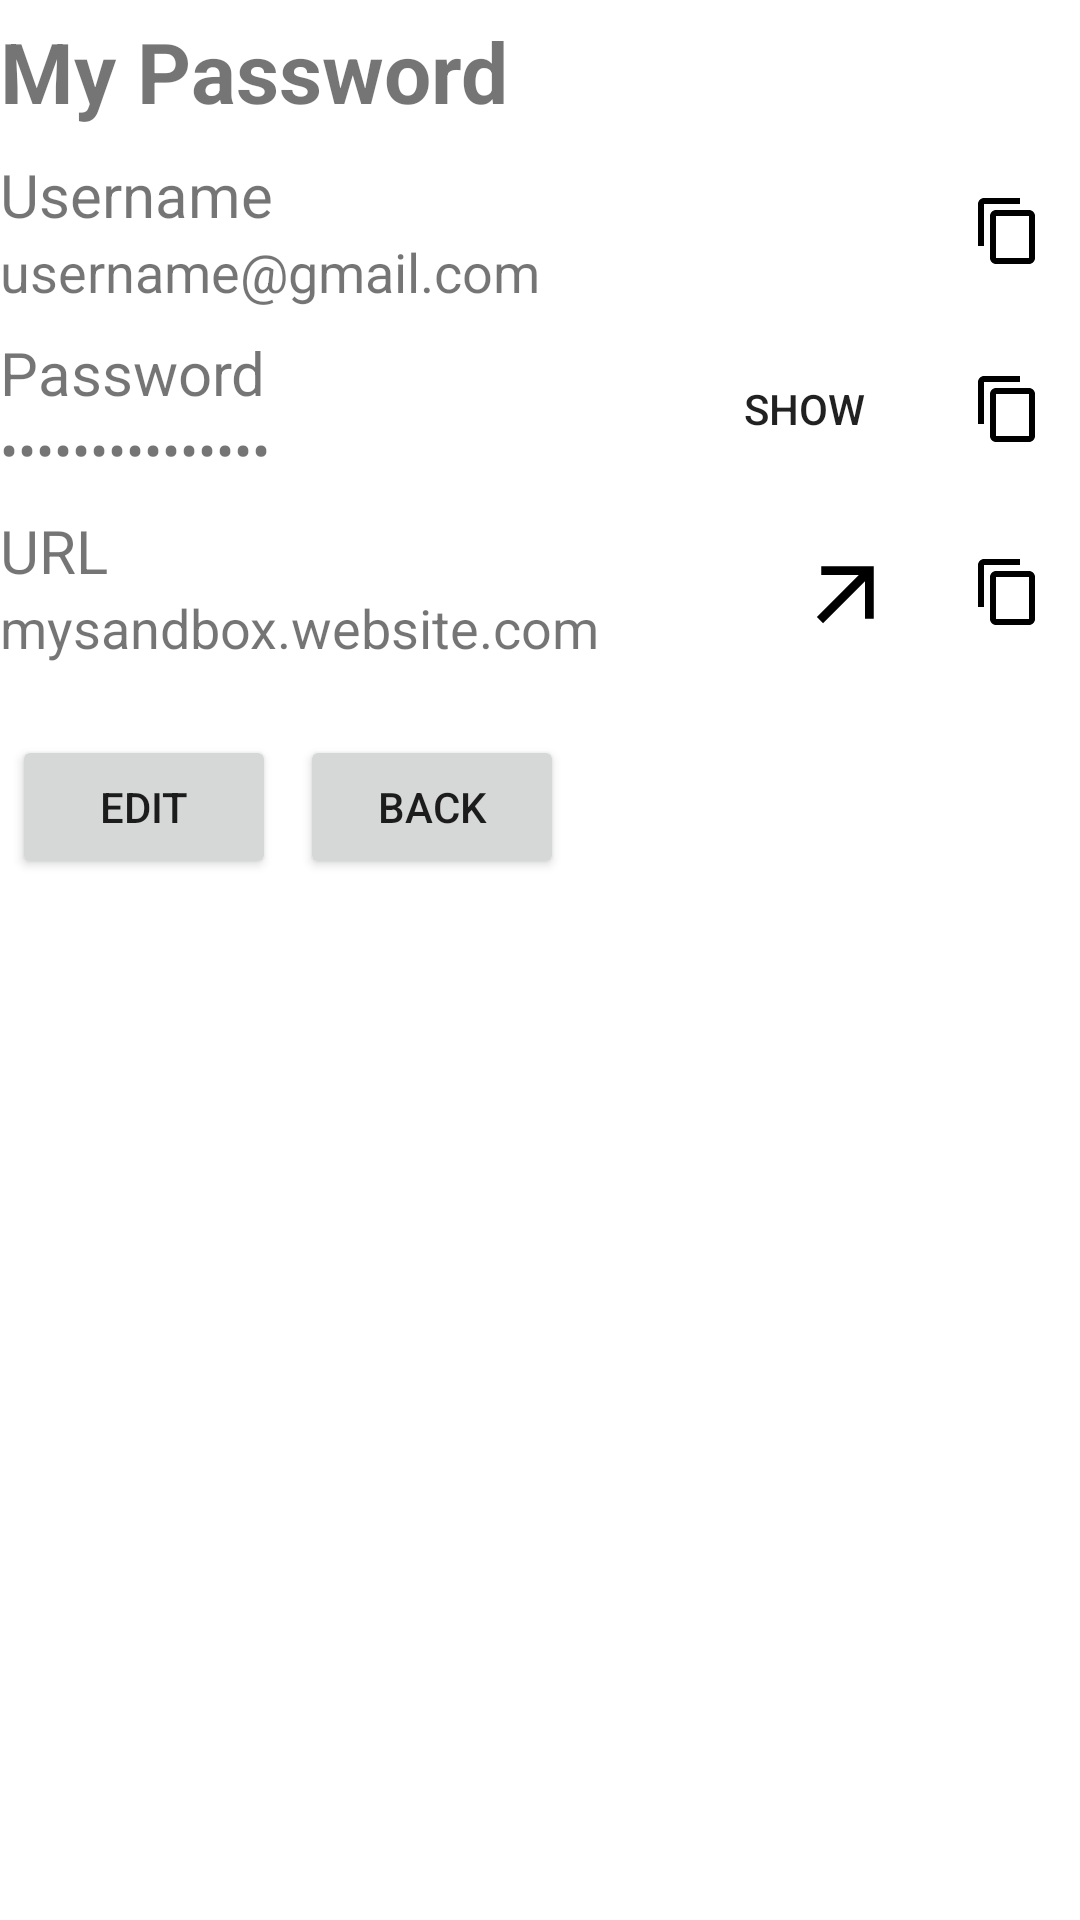

Icon bounding boxes for this 1080x1920 phone screenshot, format region(x1, y1, x2, y2):
redirect: region(817, 566, 874, 623)
